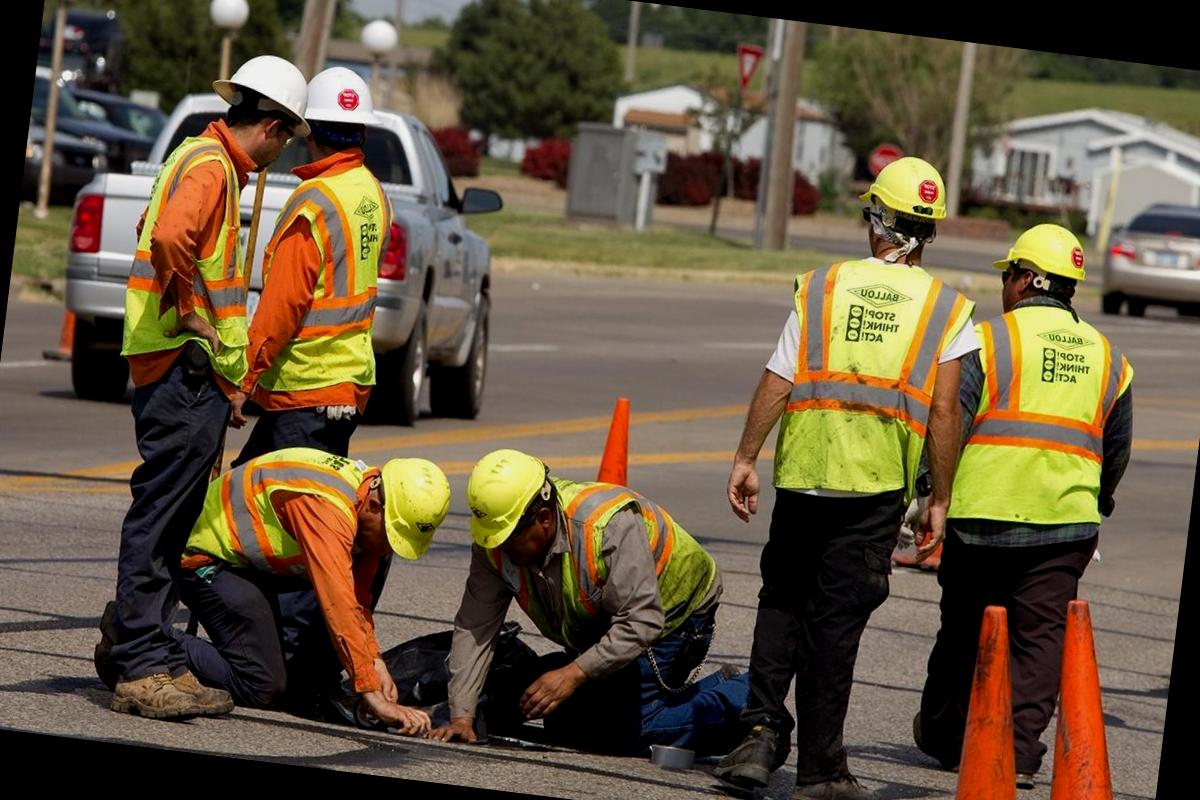helmet: (449, 443, 555, 576), (367, 453, 450, 568), (856, 144, 956, 225), (219, 46, 312, 117), (998, 215, 1092, 284), (301, 61, 376, 135)
person: (687, 128, 977, 800), (62, 29, 320, 734), (898, 207, 1157, 788), (429, 438, 731, 783), (155, 422, 459, 760), (211, 45, 426, 477)
